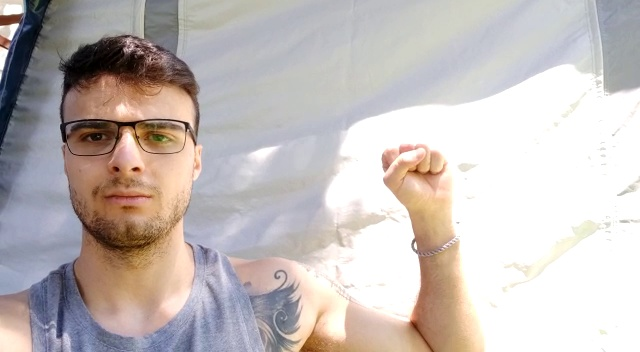Fist: (381, 138, 455, 208)
